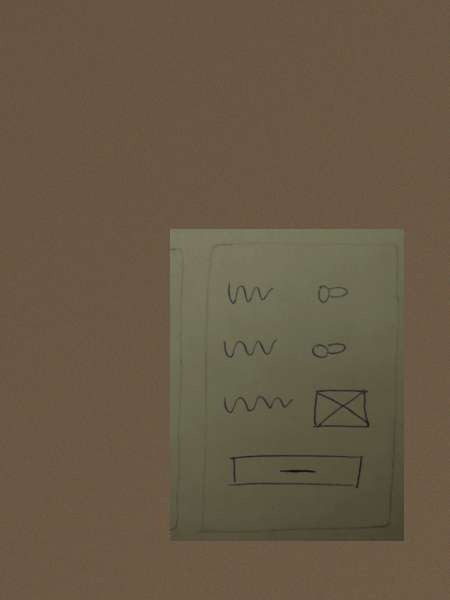button: (222, 451, 368, 493)
image: (308, 385, 374, 432)
switch: (306, 333, 351, 362), (312, 278, 353, 307)
text: (218, 389, 297, 419), (222, 276, 277, 307), (216, 334, 282, 359)
